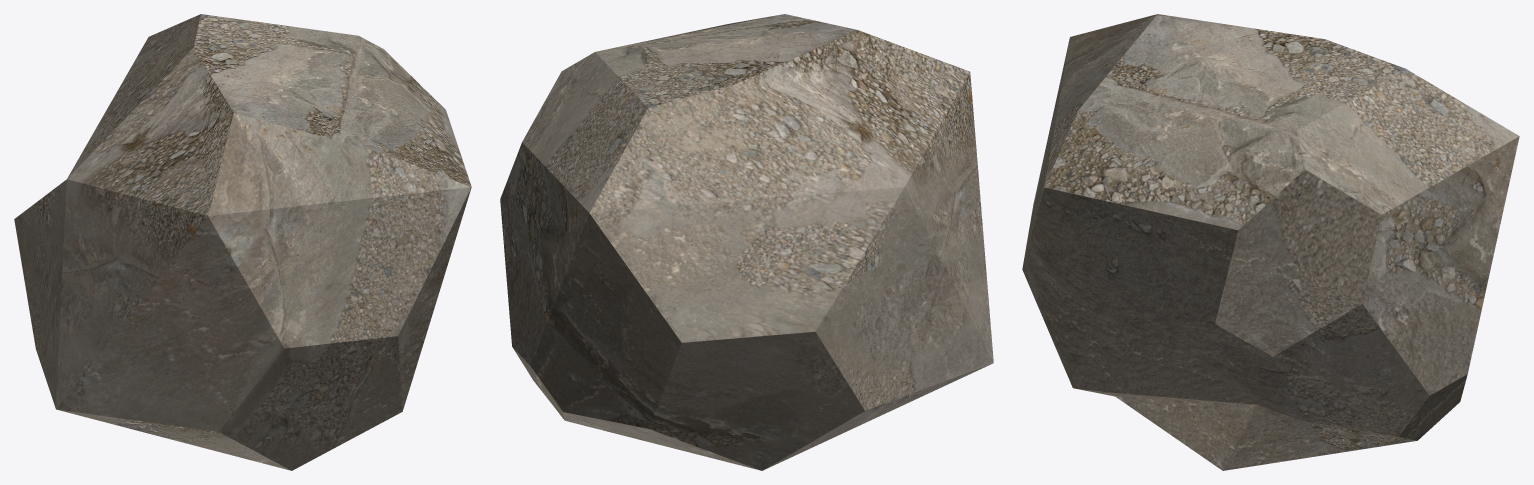
Rendered from meteor_l.fbx.
3 renders of one model, left to right at view 1: azimuth 30°, elevation 25°; view 2: azimuth 150°, elevation 25°; view 3: azimuth 270°, elevation 25°, orthographic. The views are drawn at different scales.
Parts seen in each view (by area): view 1: meteor_l; view 2: meteor_l; view 3: meteor_l.
Boxes of the visible parts, left/top/right/bottom form: meteor_l: left=14, top=14, right=471, bottom=470; meteor_l: left=500, top=14, right=993, bottom=470; meteor_l: left=1022, top=14, right=1519, bottom=470.
Bounding box in the file's own units: 170 × 156 × 173.
1 material, 1 textured.
